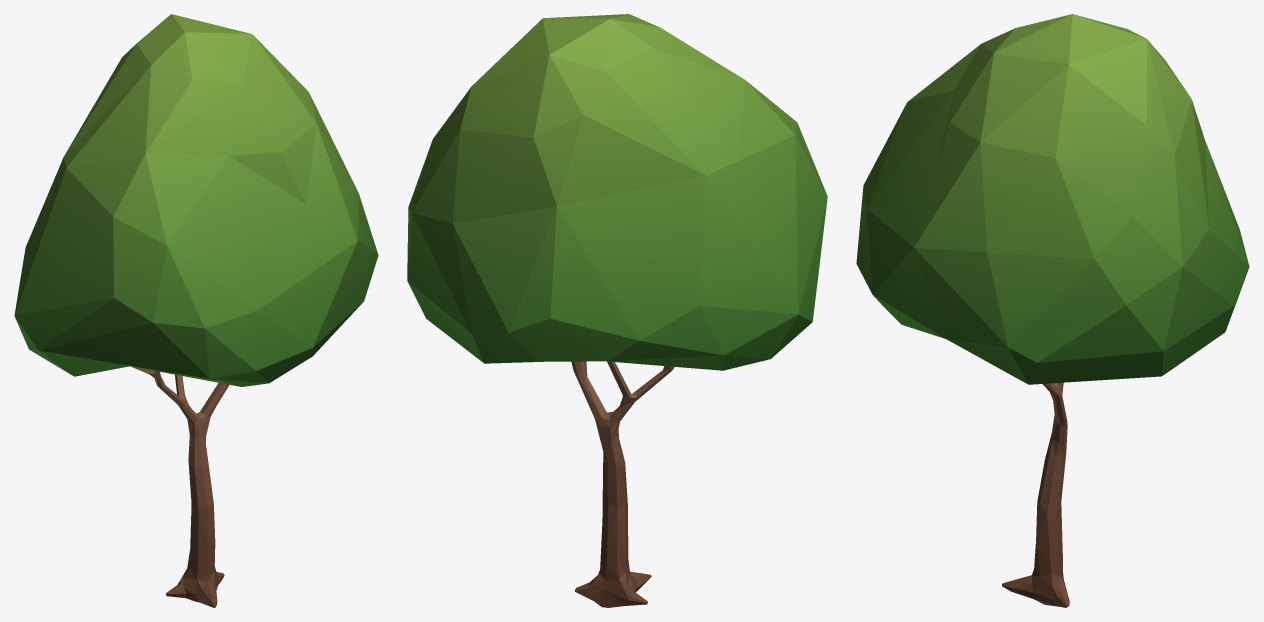
The model's file is SM_Nature_Tree_10.fbx.
3 renders of one model, left to right at view 1: azimuth 30°, elevation 25°; view 2: azimuth 150°, elevation 25°; view 3: azimuth 270°, elevation 25°, orthographic. The views are drawn at different scales.
Parts seen in each view (by area): view 1: SM_Nature_Tree_10_LOD0; view 2: SM_Nature_Tree_10_LOD0; view 3: SM_Nature_Tree_10_LOD0.
Part boxes in pixels (x1,y1,x2,y2): SM_Nature_Tree_10_LOD0: [14, 14, 378, 607]; SM_Nature_Tree_10_LOD0: [407, 14, 827, 607]; SM_Nature_Tree_10_LOD0: [856, 14, 1249, 607].
Size of the model in its own units: 1101 by 1735 by 1053.
